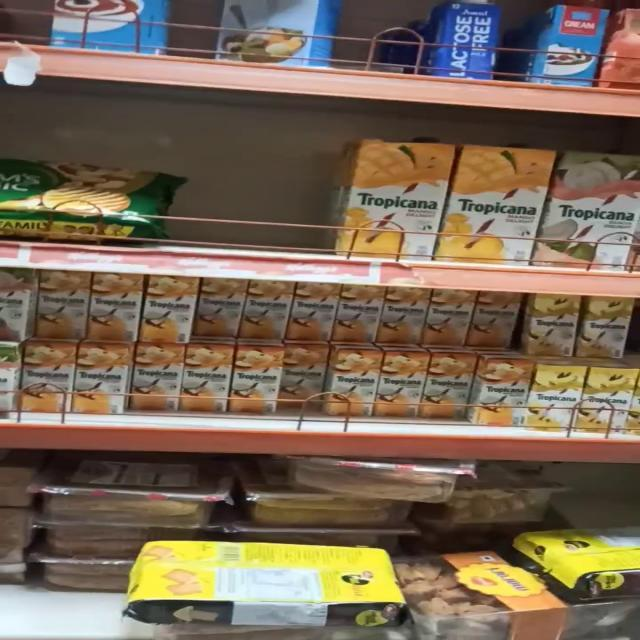Tropicana: (344, 127, 451, 260), (456, 137, 554, 267), (540, 143, 640, 265), (65, 342, 126, 414), (29, 266, 88, 337), (12, 346, 69, 412), (580, 294, 636, 359), (374, 352, 431, 415), (526, 292, 582, 356), (534, 362, 588, 428), (138, 276, 190, 344), (122, 344, 180, 404), (586, 364, 637, 432), (84, 272, 134, 340), (328, 350, 378, 418), (482, 357, 530, 427), (190, 278, 242, 342), (239, 277, 292, 339), (230, 344, 278, 412), (184, 350, 234, 410), (427, 355, 474, 418), (426, 287, 472, 350), (334, 286, 382, 344), (278, 346, 323, 407), (378, 284, 424, 342), (472, 294, 518, 351), (293, 283, 335, 343)
